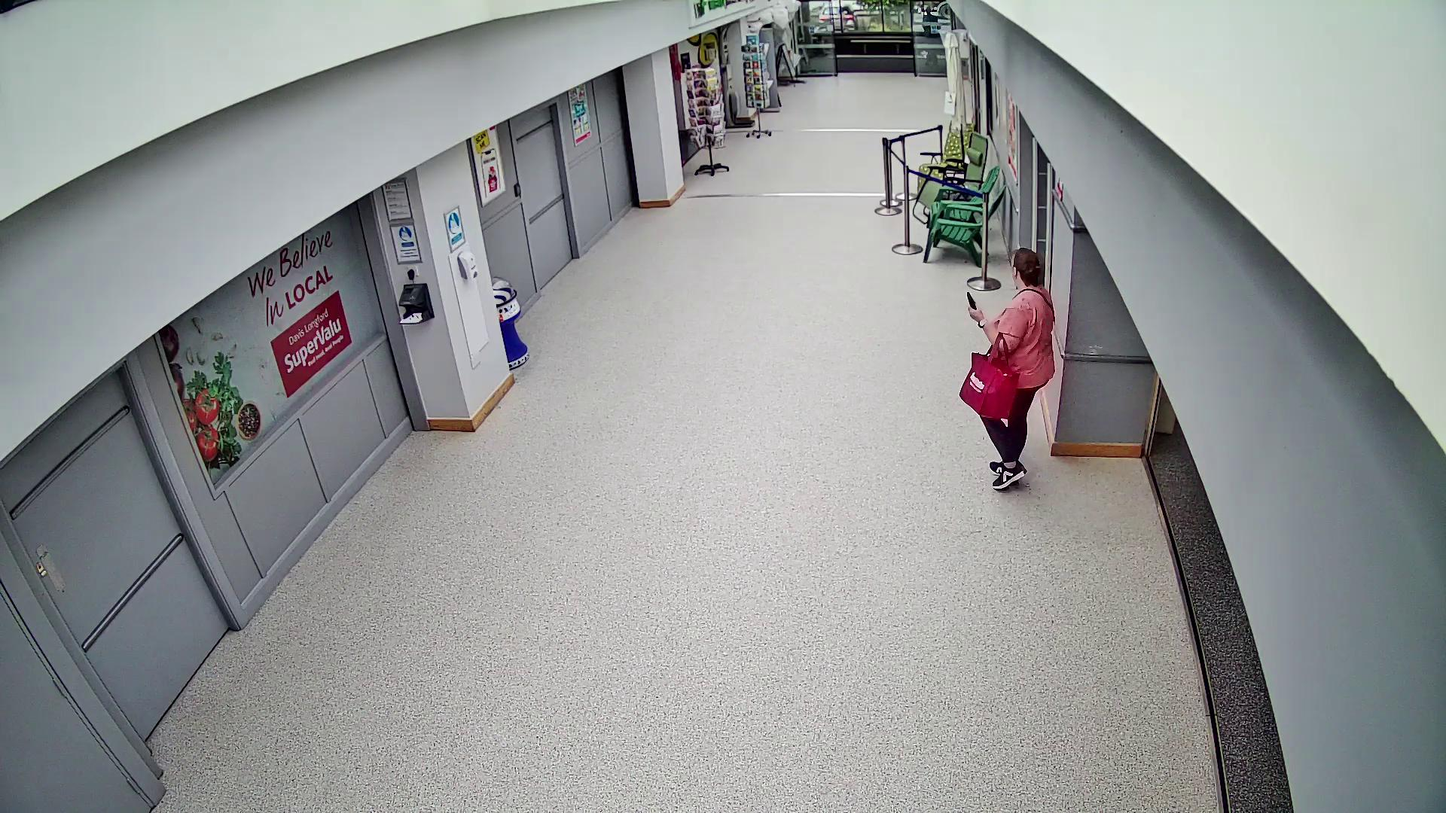backpack-or-handbag: (959, 334, 1020, 418)
person: (968, 248, 1054, 491)
person-with-backpack-handbag: (961, 248, 1055, 490)
